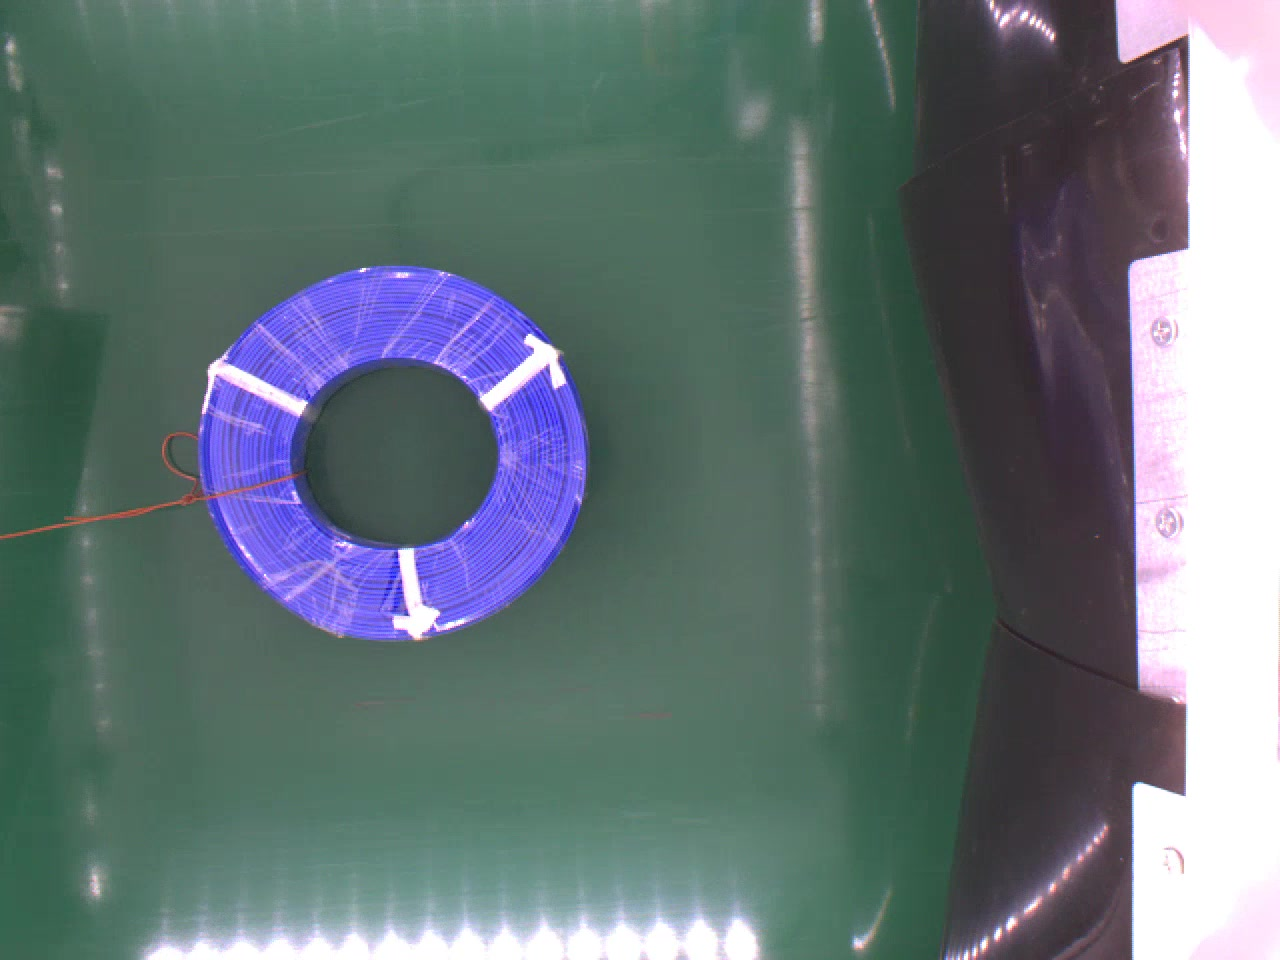blue: (191, 263, 591, 649)
